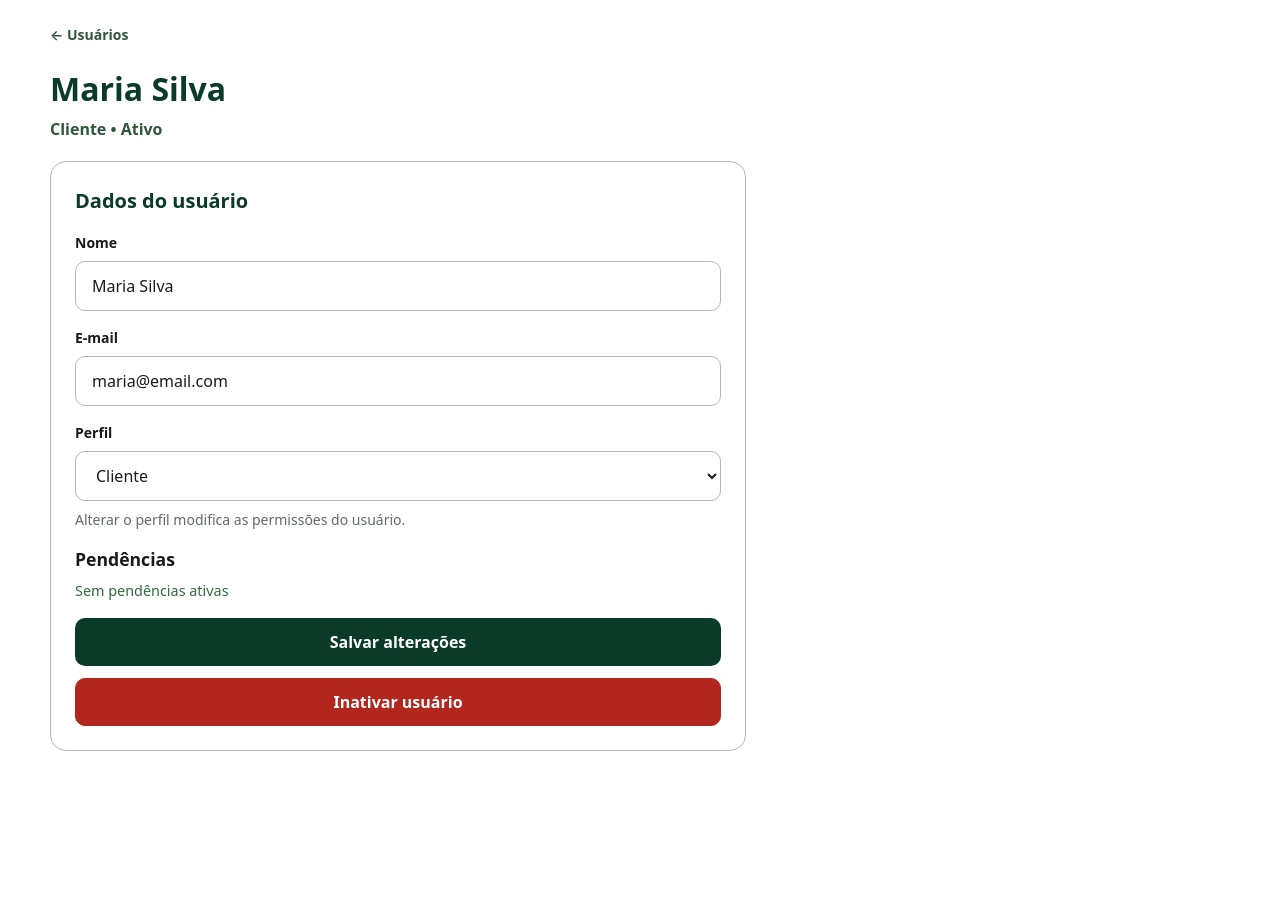
Test: UserEditComponent › pede confirmação antes de alterar o perfil e permite cancelar
This screenshot has width=1280, height=900.
Select "Vendedor" in the dropdown with id "user-role" at (398, 476), box [76,452,720,500]
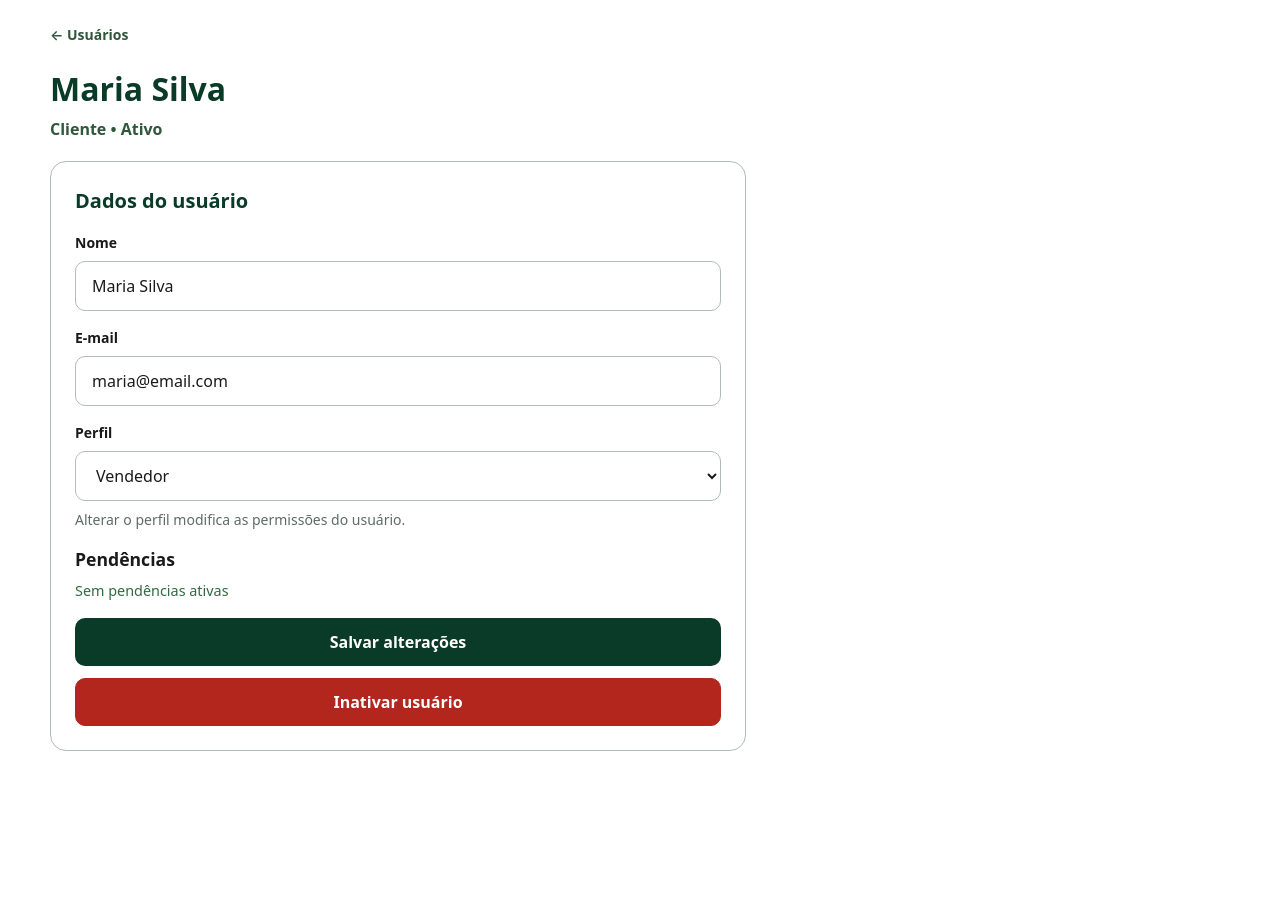
Click the button "Salvar alterações" at (398, 642), box [75,618,721,666]
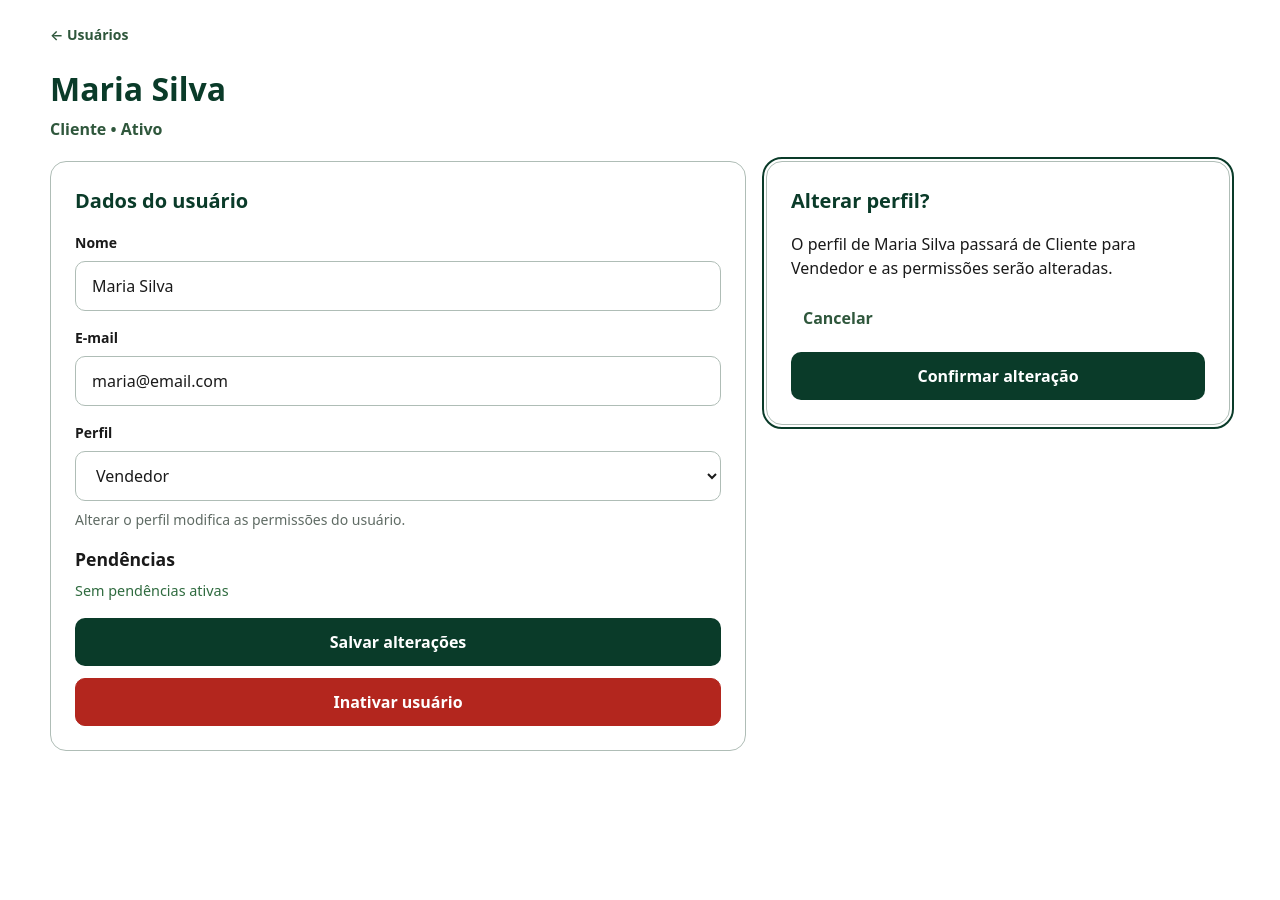
Now the text "Alterar perfil?" is shown, box [791,187,930,214]
Now the text "de Cliente para Vendedor" is shown, box [791,233,1136,279]
Click the button "Cancelar" at (838, 318), box [791,296,885,340]
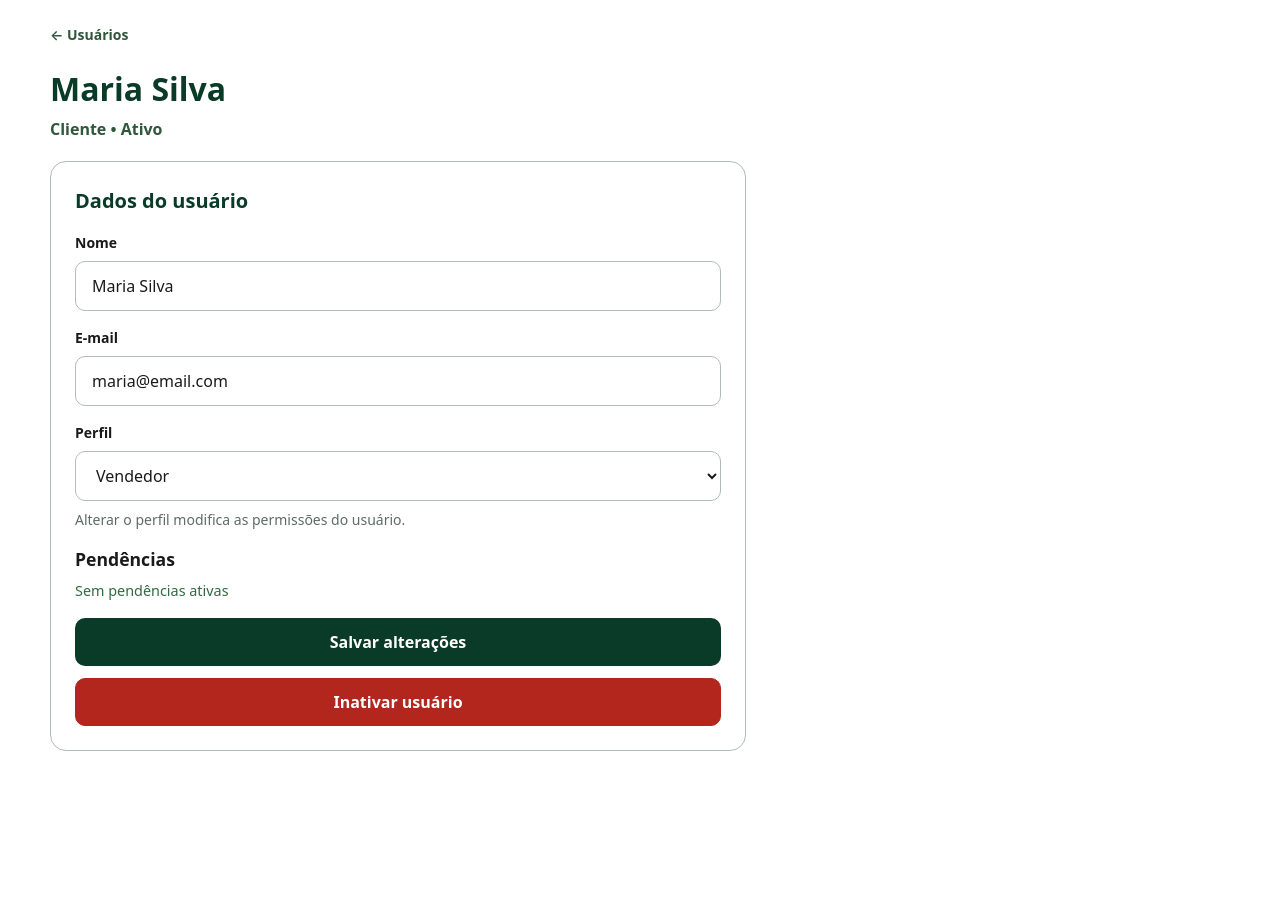
Now the text "Alterar perfil?" is gone
